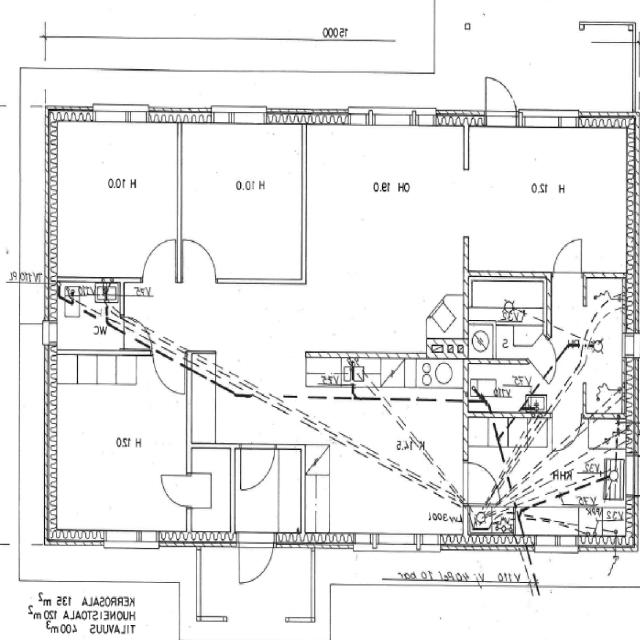door: (238, 535, 274, 595), (269, 108, 313, 150), (506, 40, 538, 95), (528, 336, 565, 382), (486, 69, 517, 123), (240, 442, 274, 490), (142, 238, 176, 284), (464, 462, 501, 503), (184, 238, 216, 284), (153, 348, 185, 394), (552, 414, 582, 455), (553, 237, 582, 277), (120, 316, 149, 347), (163, 477, 192, 506), (627, 454, 640, 496)
